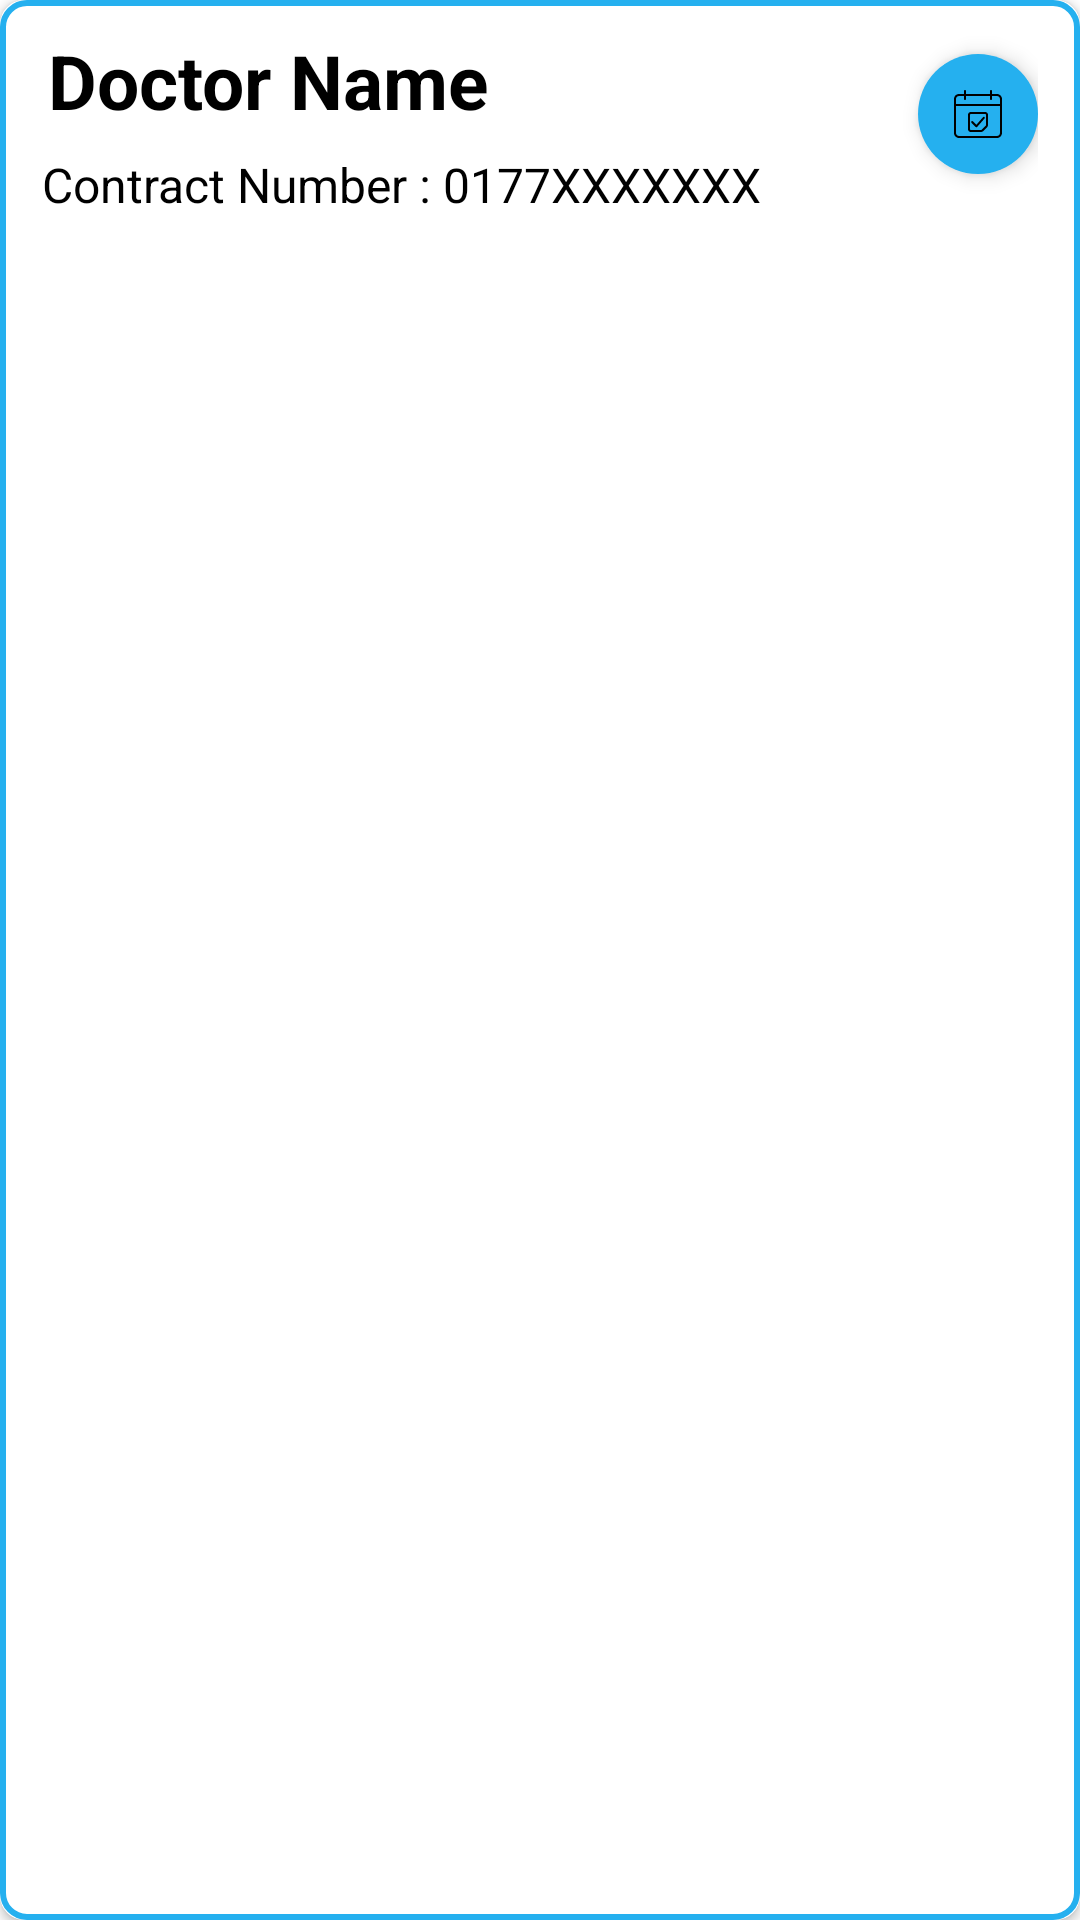

Locate icon controls on the screen. Image size 1080 x 1920, boxes as (x1, y1, x2, y2).
appoinment: (918, 54, 1038, 174)
